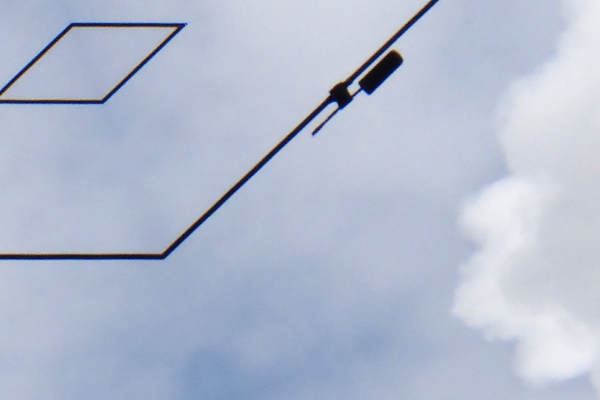damper_defect: (305, 48, 405, 139)
